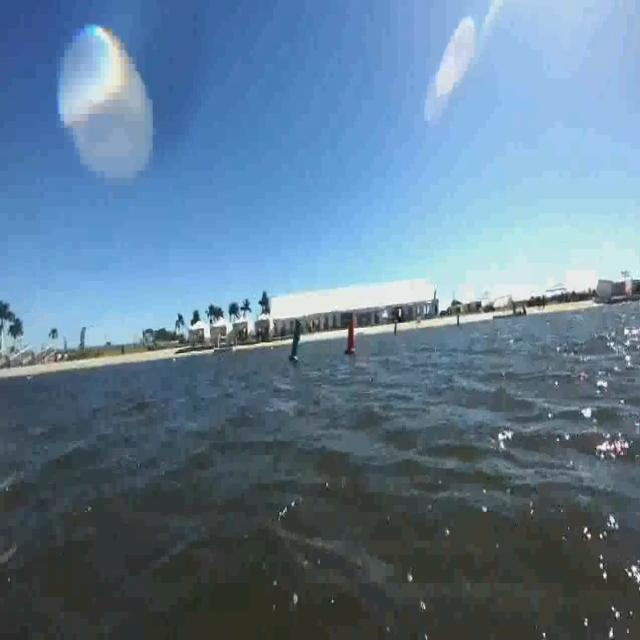green-column-buoy: (287, 316, 305, 364)
red-column-buoy: (342, 308, 362, 359)
